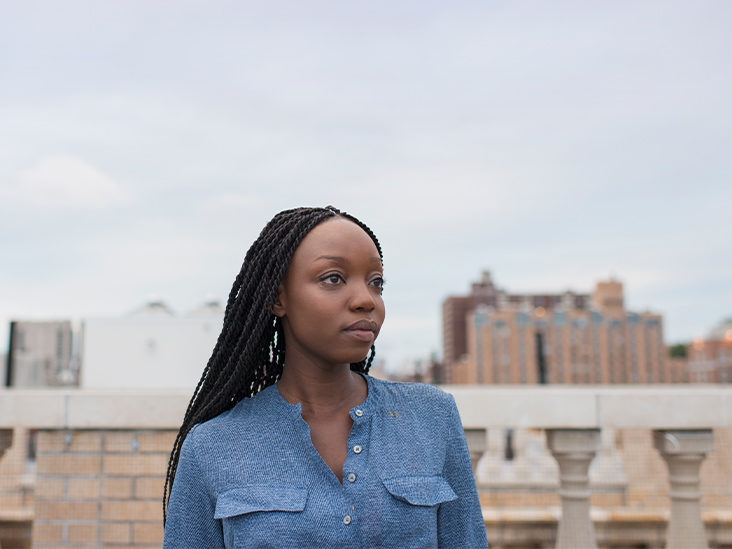bare: (285, 292, 389, 360)
